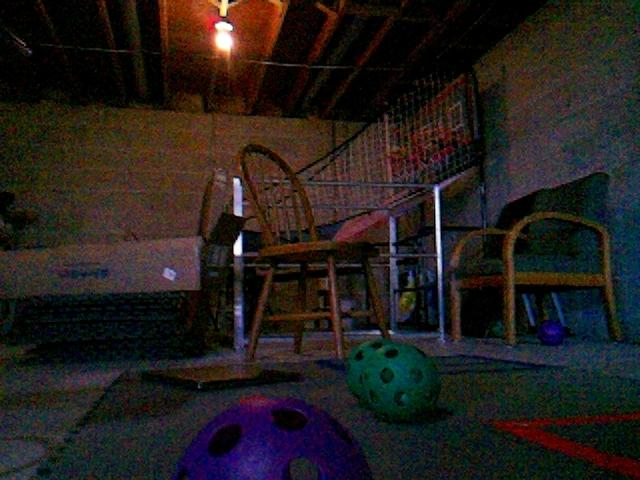Green: (362, 343, 443, 422), (349, 341, 392, 397), (489, 319, 507, 338)
Purple: (168, 394, 375, 480), (537, 318, 567, 347)
